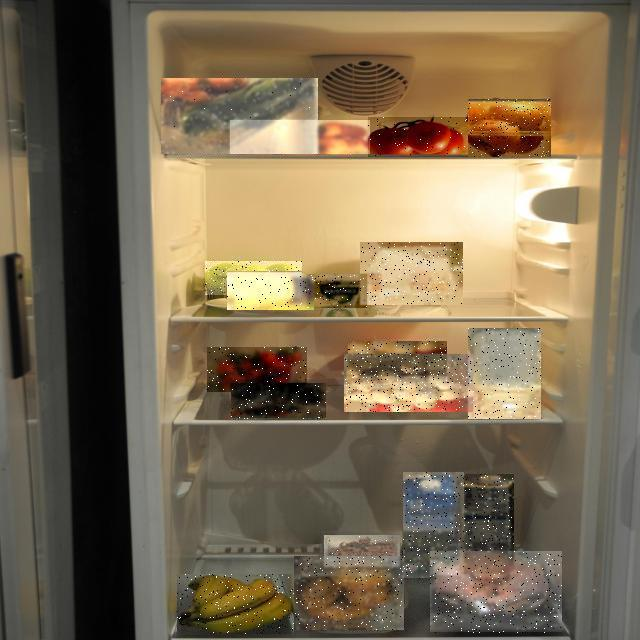Apple: (205, 262, 302, 298)
Banana: (177, 574, 294, 634)
Blue Berries: (231, 384, 326, 420)
Butter: (348, 341, 447, 376)
Carrot: (231, 120, 371, 154)
Cheese: (227, 274, 314, 310), (307, 274, 367, 308)
Flour: (360, 242, 463, 305)
Meat: (430, 552, 562, 634)
Milk: (403, 473, 464, 579), (459, 474, 514, 577)
Mushroom: (344, 354, 473, 412)
Onion: (468, 99, 551, 157)
Potatoes: (294, 556, 404, 630)
Shrimp: (324, 535, 400, 567)
Spinach: (161, 78, 318, 154)
Straw Berry: (207, 347, 307, 392)
Sugar: (468, 328, 541, 419)
Tomato Paste: (368, 117, 468, 157)
